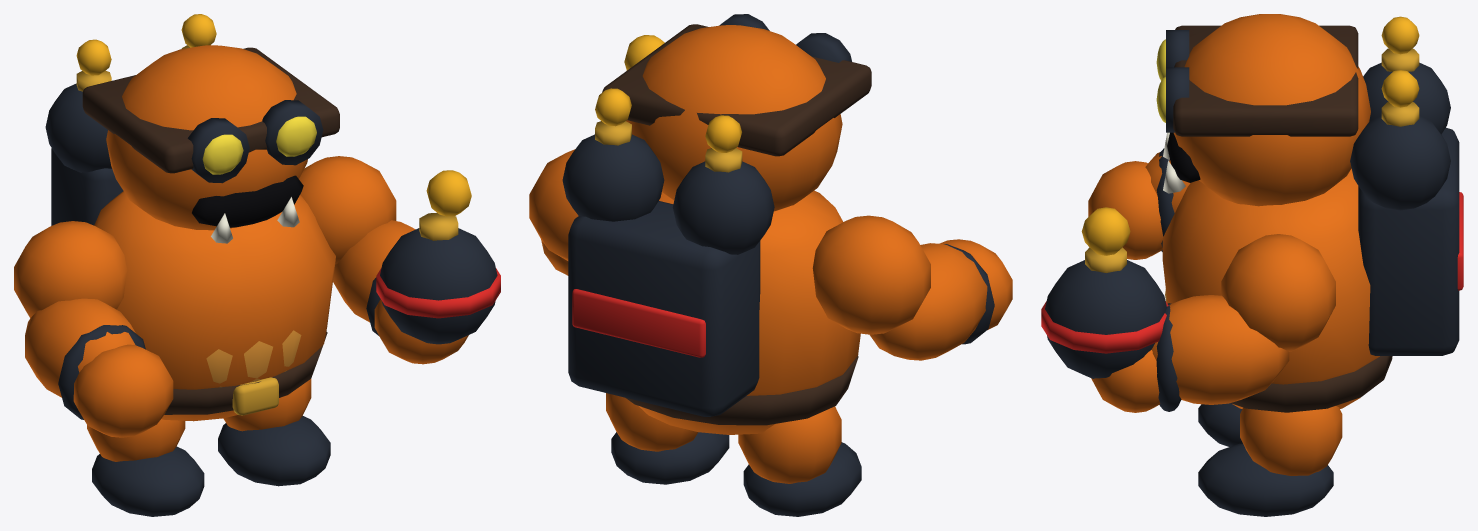
The model's file is thrower.glb.
The picture shows the model from 3 angles, left to right: view 1: azimuth 30°, elevation 25°; view 2: azimuth 150°, elevation 25°; view 3: azimuth 270°, elevation 25°; orthographic projection. The views are drawn at different scales.
Visible parts, largest first — view 1: Arms, Body, Head, LegL, LegR; view 2: Body, Head, Arms, LegL, LegR; view 3: Body, Arms, Head, LegR, LegL.
Part boxes in pixels (box(x1,y1,x2,y2)): Arms: box(14, 156, 500, 437); Body: box(45, 14, 335, 421); Head: box(82, 45, 339, 243); LegL: box(87, 419, 204, 516); LegR: box(218, 379, 330, 486); Body: box(562, 88, 860, 434); Head: box(602, 14, 871, 211); Arms: box(529, 35, 1012, 360); LegL: box(738, 406, 861, 516); LegR: box(606, 393, 729, 484); Body: box(1162, 16, 1463, 412); Arms: box(1041, 148, 1335, 412); Head: box(1156, 14, 1370, 206); LegR: box(1198, 406, 1342, 516); LegL: box(1198, 403, 1242, 446).
Bounding box in the file's own units: 1.16 × 1.19 × 1.
Materials: 1 (1 with a texture image).
